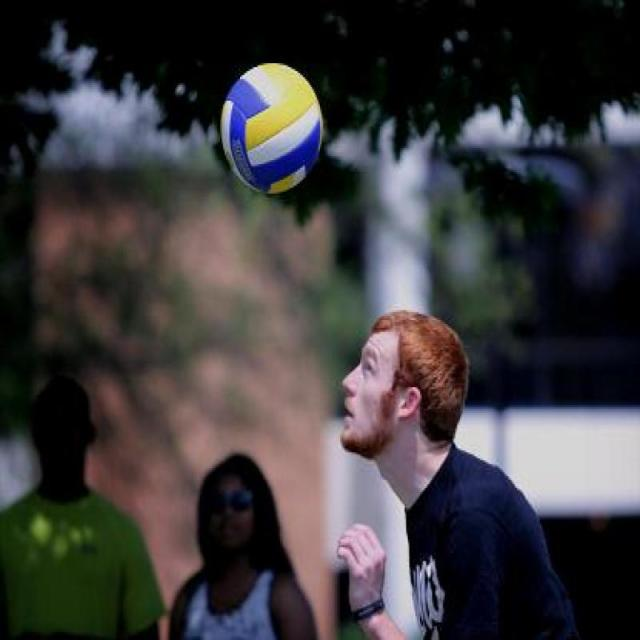volleyball: (220, 62, 323, 196)
